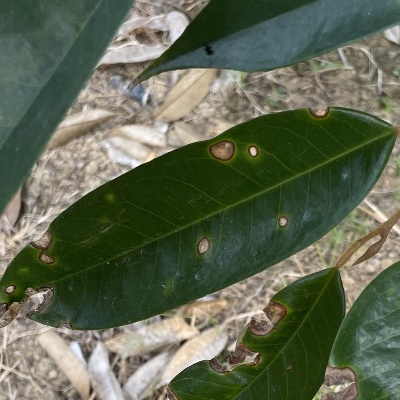Leaf_Phomopsis: (0, 105, 399, 335)
